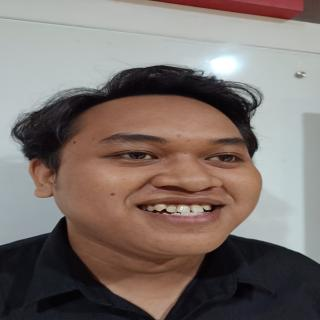Senang: (51, 88, 282, 261)
